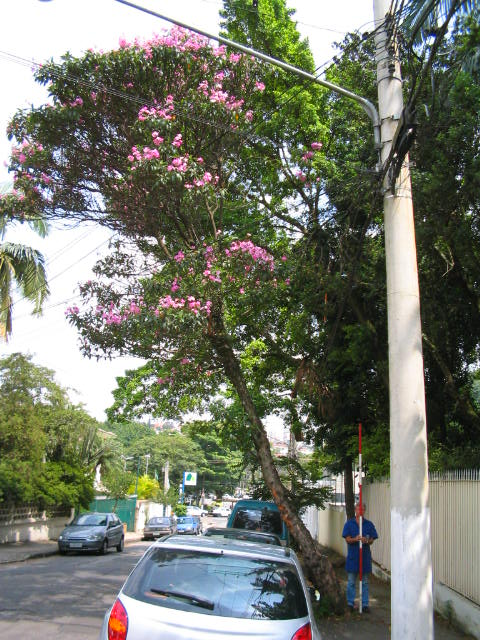crown: (3, 23, 341, 361)
stem: (213, 365, 350, 615)
stick: (350, 423, 368, 612)
tree: (3, 23, 350, 616)
